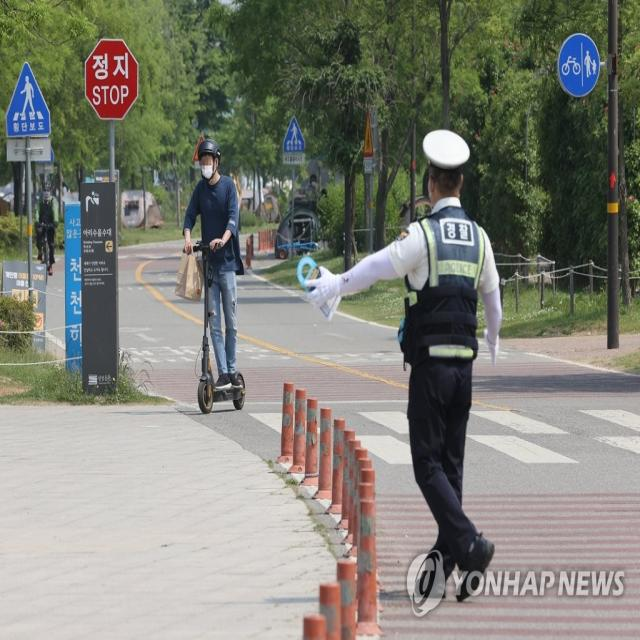helmet: (177, 133, 253, 424)
